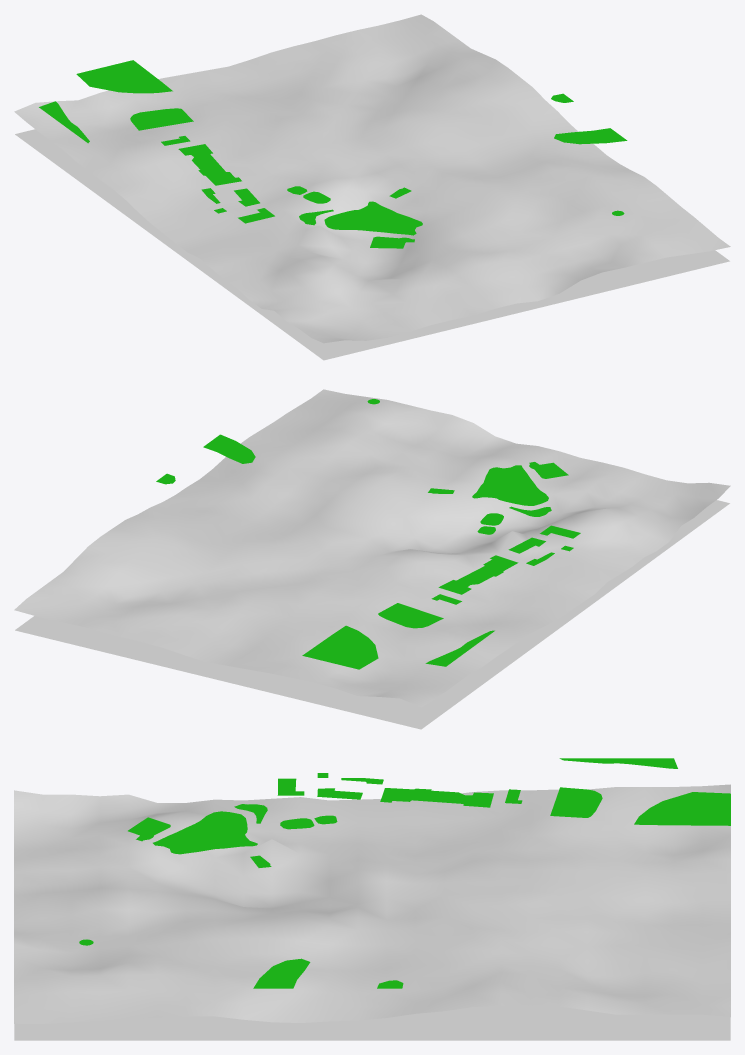
Rendered from utown_roadonly_terrain.dae.
The picture shows the model from 3 angles, top to bottom: view 1: azimuth 30°, elevation 25°; view 2: azimuth 150°, elevation 25°; view 3: azimuth 270°, elevation 25°; orthographic projection. The views are drawn at different scales.
Parts seen in each view (by area): view 1: Terrain, Terrain_envelope, map_6.osm_vegetation; view 2: Terrain, Terrain_envelope, map_6.osm_vegetation; view 3: Terrain, Terrain_envelope, map_6.osm_vegetation.
Boxes of the visible parts, <box> form: Terrain: <box>14,14,730,343</box>; Terrain_envelope: <box>15,129,729,360</box>; map_6.osm_vegetation: <box>39,60,627,248</box>; Terrain: <box>14,389,730,707</box>; Terrain_envelope: <box>15,500,729,729</box>; map_6.osm_vegetation: <box>156,399,580,669</box>; Terrain: <box>14,784,730,1023</box>; Terrain_envelope: <box>14,1005,730,1040</box>; map_6.osm_vegetation: <box>79,758,730,988</box>.
Size of the model in its own units: 587 by 773 by 62.
